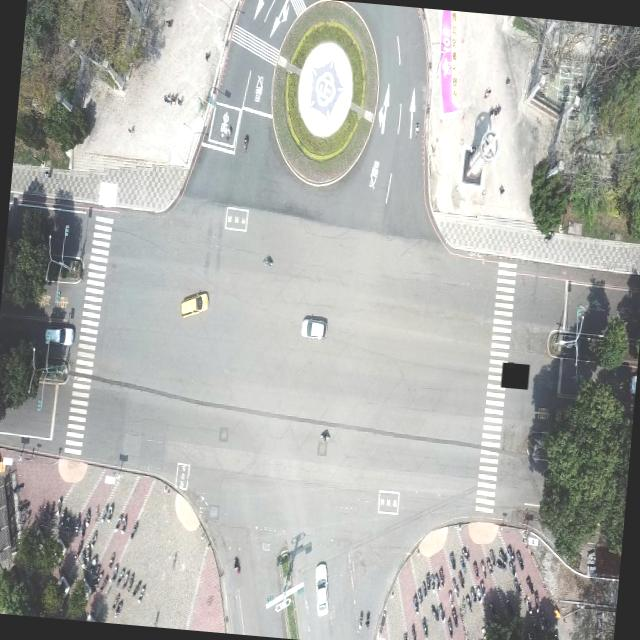bike: (232, 554, 242, 576), (357, 608, 363, 628), (364, 609, 370, 628), (242, 133, 248, 151)
car: (38, 318, 78, 355), (310, 560, 332, 616), (179, 288, 209, 319), (300, 312, 328, 340)
